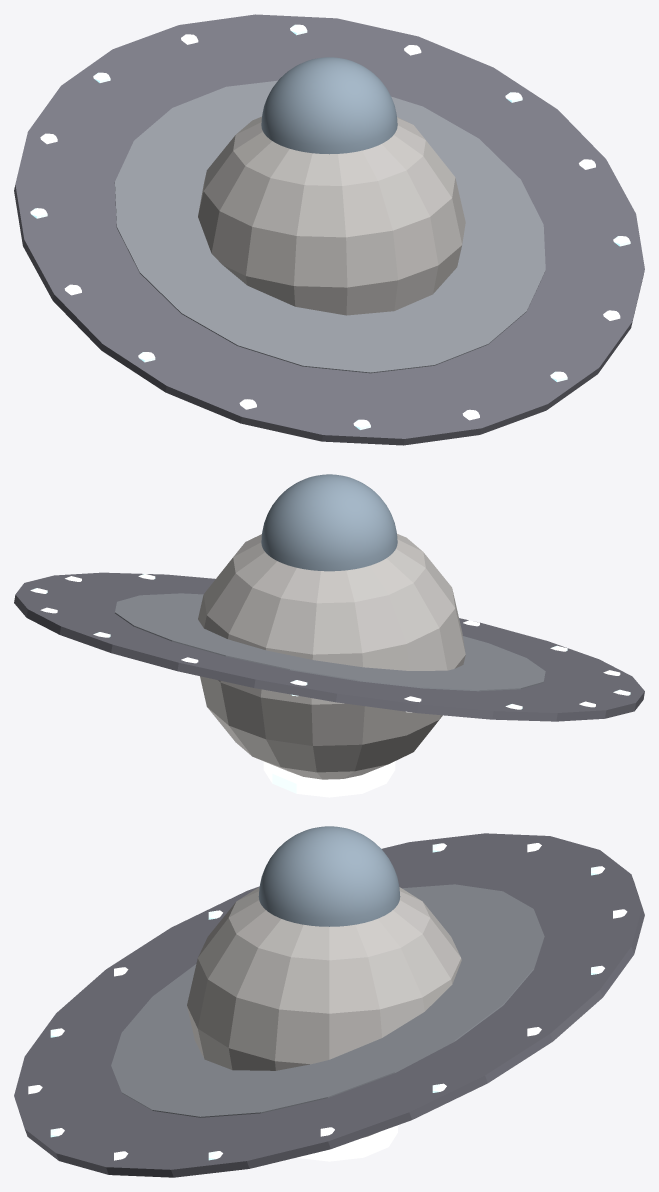
The model's file is saturn.glb.
3 views of the same model, one above another, from view 1: azimuth 30°, elevation 25°; view 2: azimuth 150°, elevation 25°; view 3: azimuth 270°, elevation 25° (orthographic). The views are drawn at different scales.
Parts seen in each view (by area): view 1: saturn, dome.007; view 2: saturn, dome.007; view 3: saturn, dome.007.
Boxes of the visible parts, x1=… form: saturn: x1=14, y1=14, x2=644, y2=445; dome.007: x1=261, y1=57, x2=397, y2=154; saturn: x1=14, y1=534, x2=644, y2=797; dome.007: x1=261, y1=474, x2=397, y2=571; saturn: x1=14, y1=833, x2=644, y2=1177; dome.007: x1=258, y1=826, x2=400, y2=926.
Size of the model in its own units: 5.8 by 2.9 by 5.53.
